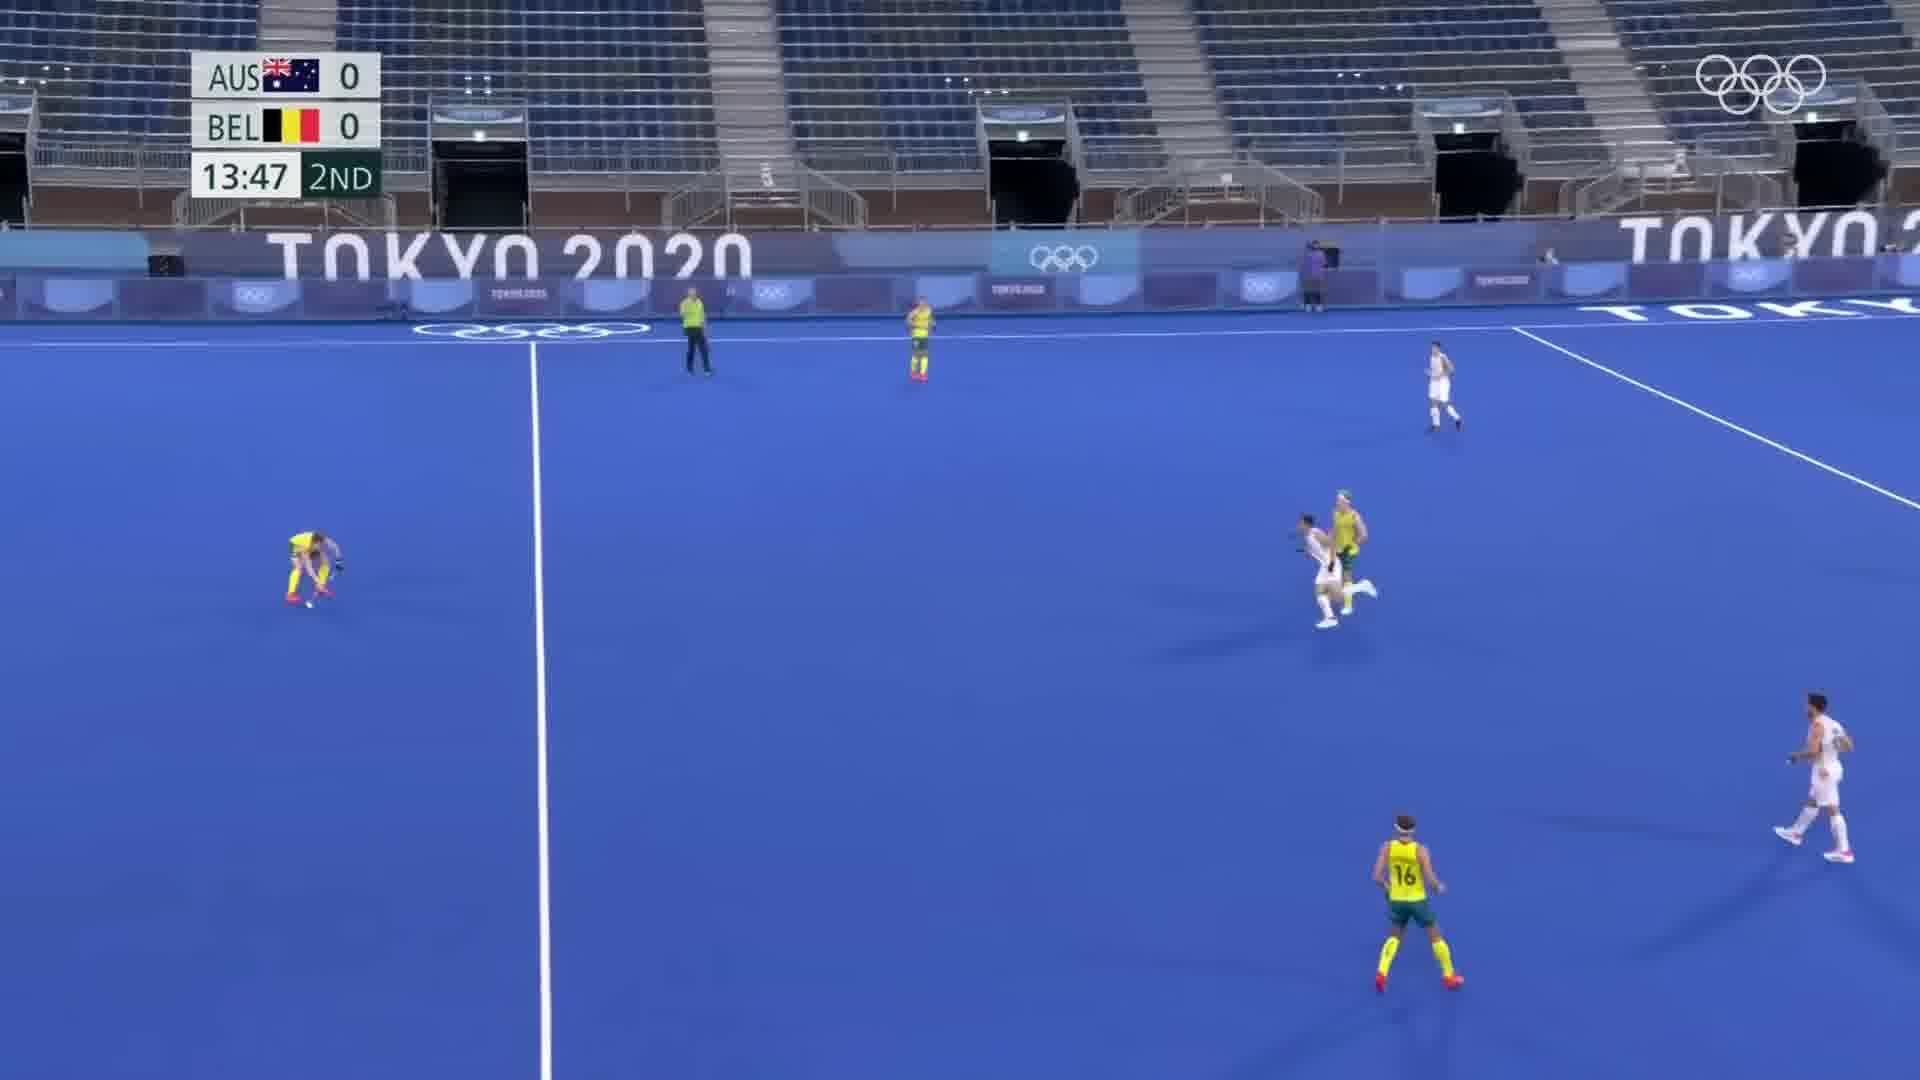ball: (299, 597, 315, 613)
